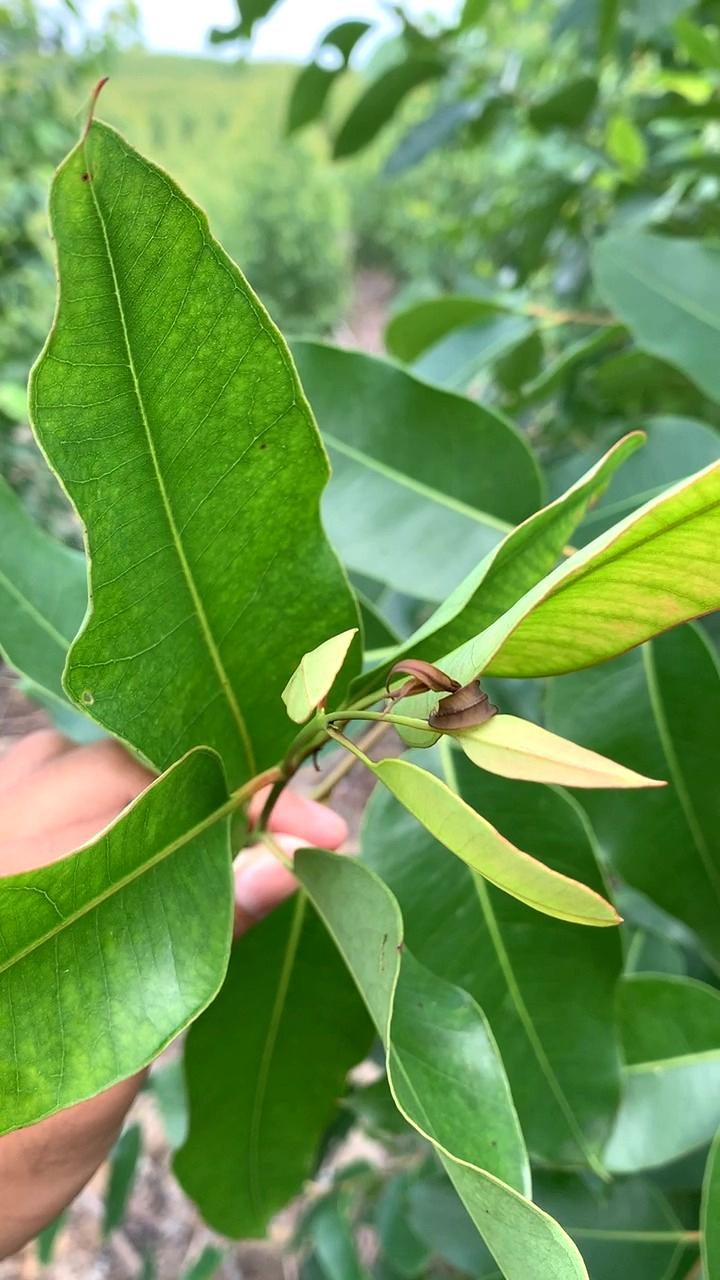Helopeltis-Withered Sprout: (373, 643, 501, 739)
